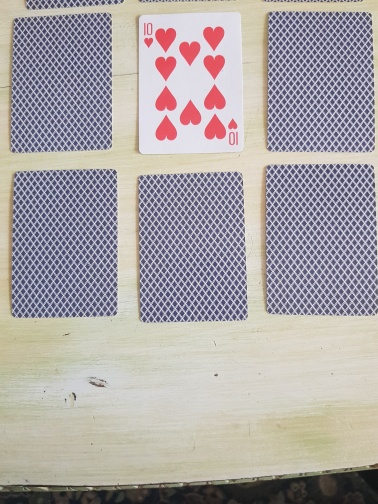ten: (136, 11, 244, 156)
